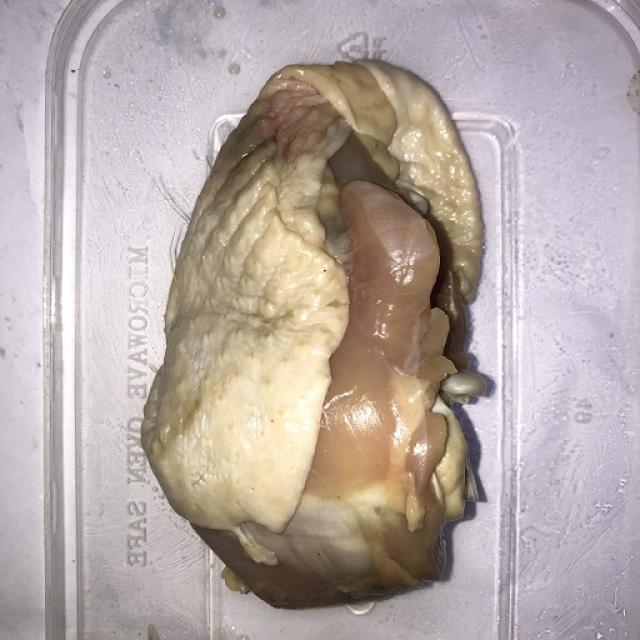chicken: (134, 44, 506, 611)
